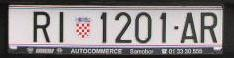.: (174, 24, 178, 31)
0: (134, 12, 153, 42)
1: (159, 12, 168, 44), (100, 11, 108, 44)
2: (115, 12, 132, 44)
A: (181, 12, 197, 44)
I: (57, 11, 66, 44)
R: (31, 11, 51, 44), (200, 12, 218, 43)
